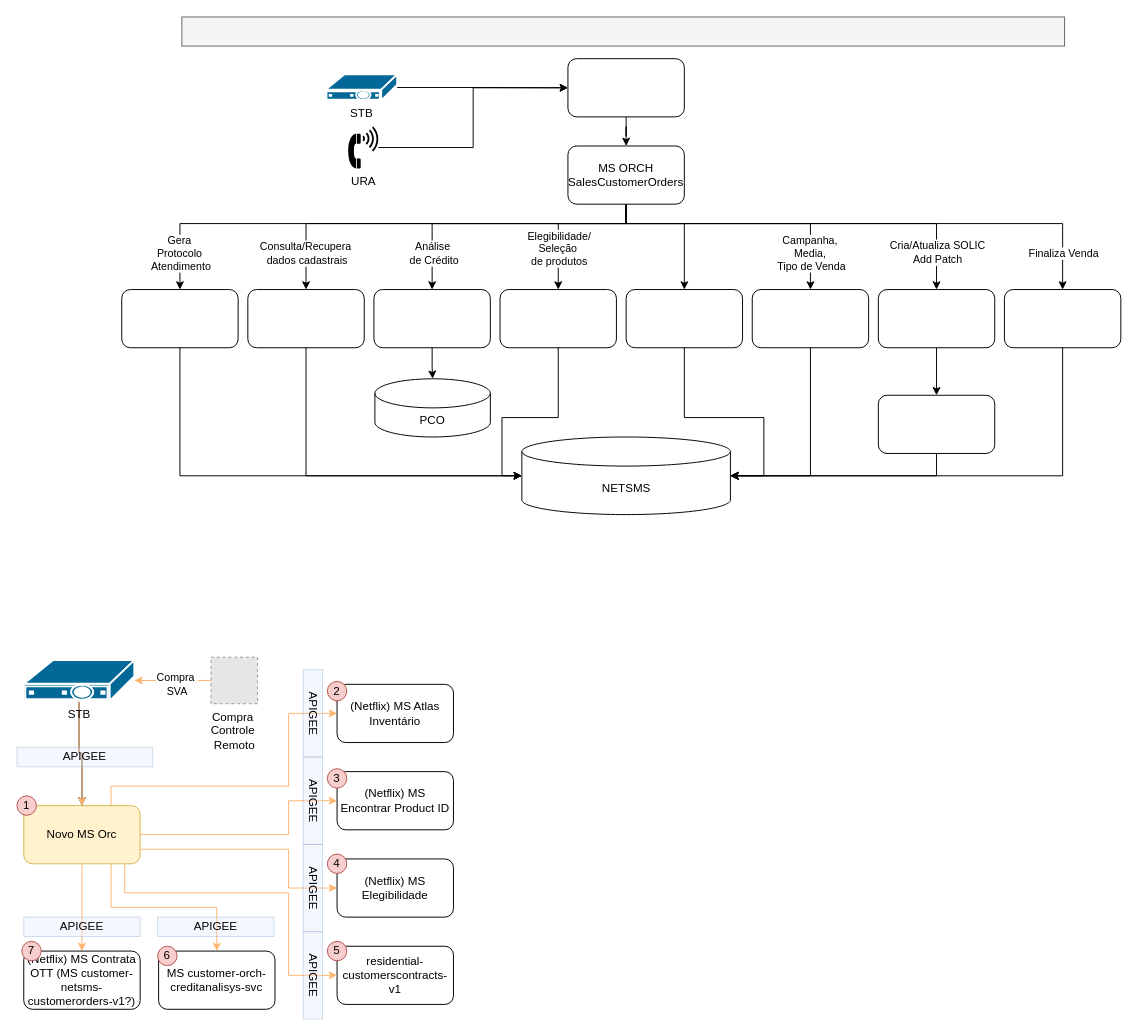
This 1138x1036 diagram has some shape labels left out. Grey dashed boxes stand in for pictures. Here are the shapes that lost their labels. From the top down, the centre of each, then its label:
At [623,31]: "PROCESSO ADESÃO PACOTES - VENDA BASE".
At [625,87]: "API SalesCustomerOrders".
At [179,318]: "MS Interaction Protocol".
At [305,318]: "MS Customer Contracts".
At [431,318]: "MS Credit Analysis".
At [557,318]: "MS Catalogsoffers".
At [684,318]: "MS NetworksAccessPoint".
At [810,318]: "MS MarketSegments".
At [936,318]: "MS ORCH Customer Order".
At [1062,318]: "MS MarketStatistics".
At [936,423]: "MS Customer Order".
